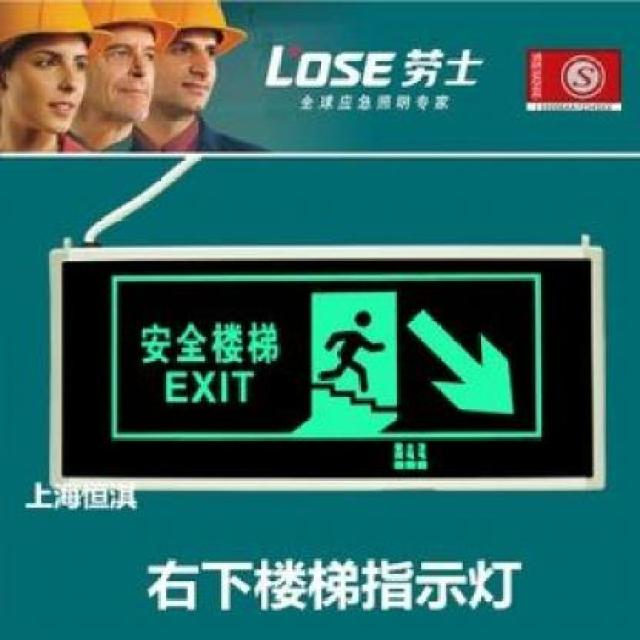exit_sign: (43, 234, 612, 502)
